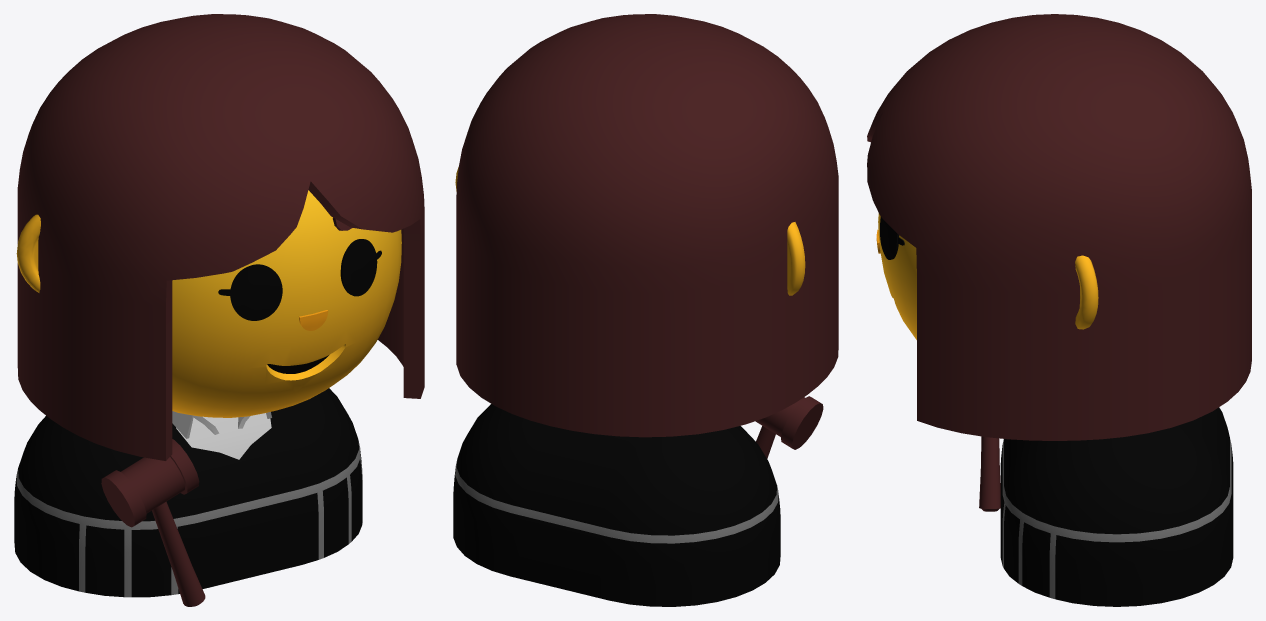
File: woman_judge.fbx
3 renders of one model, left to right at view 1: azimuth 30°, elevation 25°; view 2: azimuth 150°, elevation 25°; view 3: azimuth 270°, elevation 25°, orthographic. The views are drawn at different scales.
Visible parts, largest first — view 1: Roundcube.088, Sphere.045, Roundcube.087, Cylinder.081, Circle.584, Cylinder.080, Plane.040; view 2: Roundcube.088, Sphere.045, Cylinder.081, Cylinder.080; view 3: Roundcube.088, Sphere.045, Roundcube.087, Cylinder.081, Cylinder.080, Circle.584.
Part boxes in pixels (x1,y1,x2,y2): Roundcube.088: [17, 14, 424, 460]; Sphere.045: [14, 388, 362, 597]; Roundcube.087: [172, 190, 401, 417]; Cylinder.081: [101, 439, 205, 606]; Circle.584: [230, 239, 377, 320]; Cylinder.080: [16, 214, 40, 292]; Plane.040: [172, 411, 271, 438]; Roundcube.088: [456, 14, 838, 437]; Sphere.045: [453, 404, 780, 606]; Cylinder.081: [755, 396, 823, 458]; Cylinder.080: [455, 167, 805, 295]; Roundcube.088: [867, 14, 1251, 440]; Sphere.045: [1000, 407, 1233, 606]; Roundcube.087: [878, 213, 916, 339]; Cylinder.081: [979, 436, 1000, 511]; Cylinder.080: [1075, 255, 1098, 329]; Circle.584: [880, 216, 899, 259].
Bounding box in the file's own units: 176 × 239 × 165.
2 materials, 2 textured.
